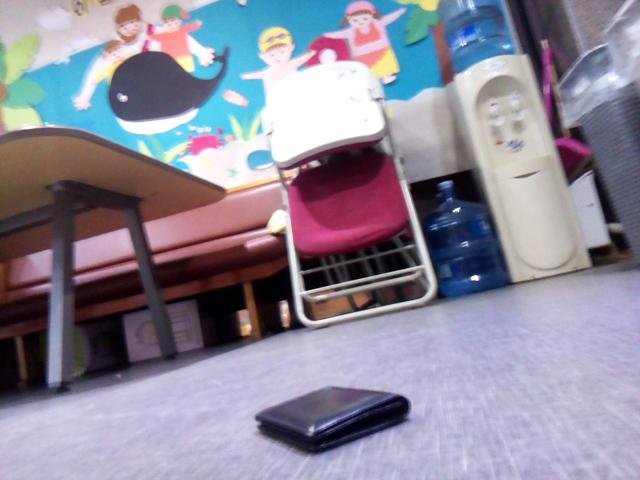wallet: (237, 363, 418, 456)
